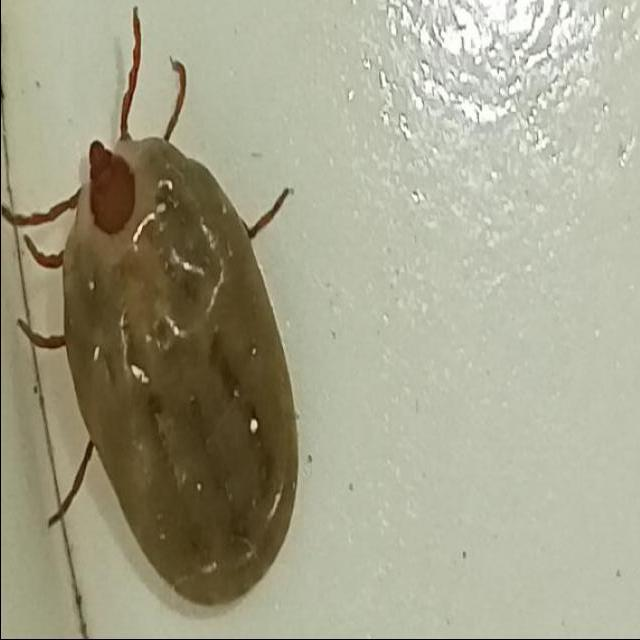Rhipicephalus Sanguineus-F-Fed: (0, 9, 297, 610)
